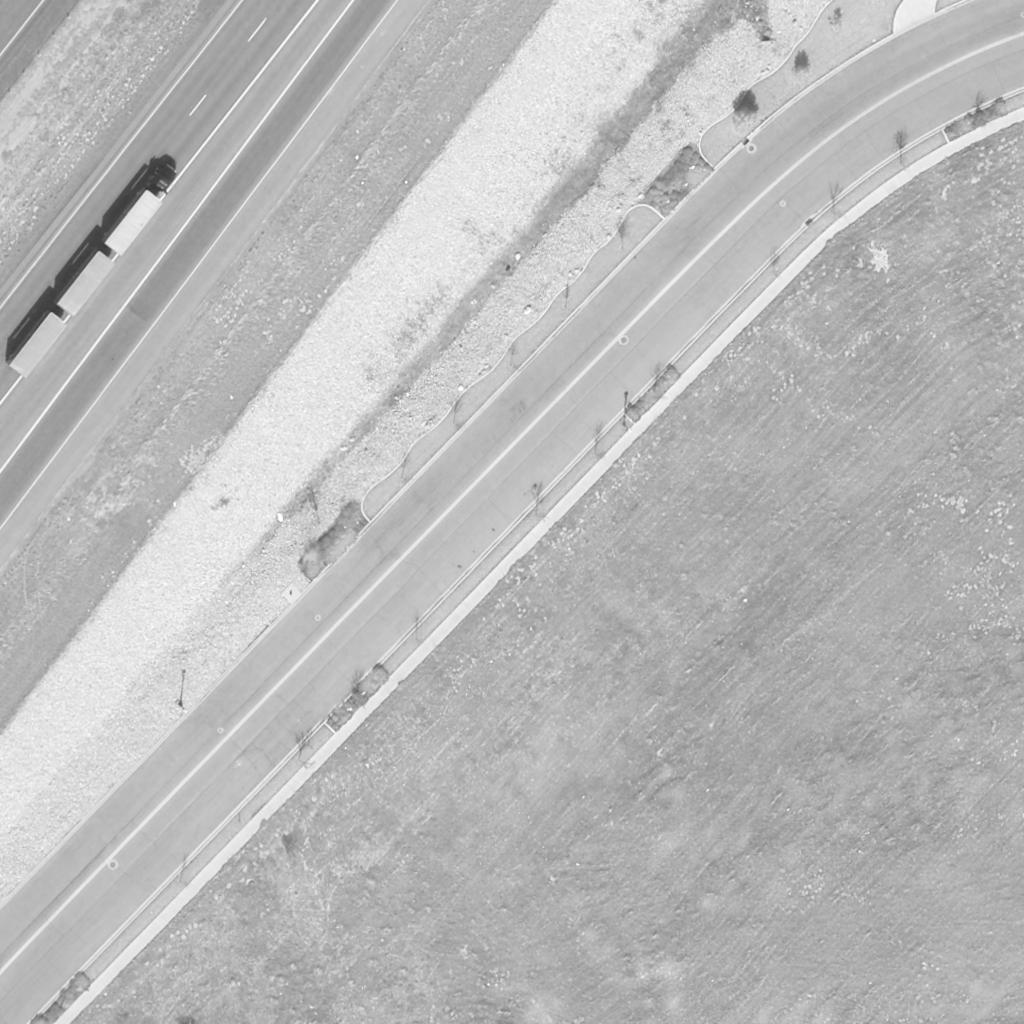vehicle: (102, 159, 182, 257)
